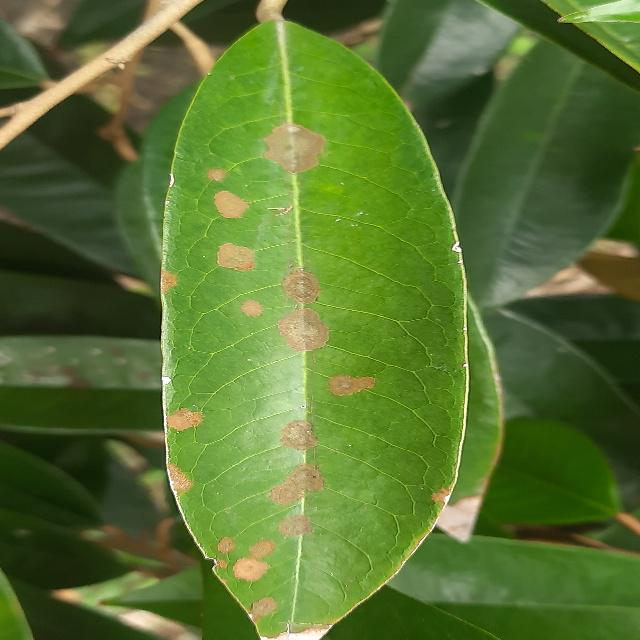Algal Leaf Spot: (155, 9, 480, 639)
